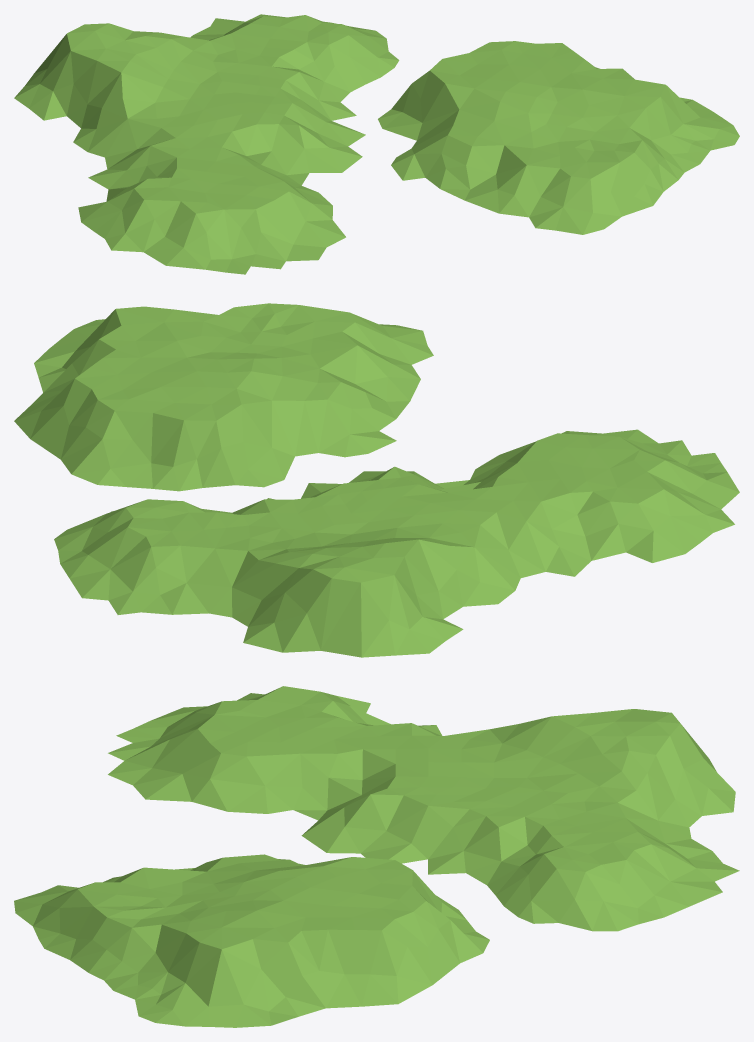
File: MT_Mountain_L_b_12_LOD.fbx
The picture shows the model from 3 angles, top to bottom: view 1: azimuth 30°, elevation 25°; view 2: azimuth 150°, elevation 25°; view 3: azimuth 270°, elevation 25°; orthographic projection. The views are drawn at different scales.
Visible parts, largest first — view 1: MT_Mountain_L_b_12_LOD0; view 2: MT_Mountain_L_b_12_LOD0; view 3: MT_Mountain_L_b_12_LOD0.
Part boxes in pixels (x1,y1,x2,y2): MT_Mountain_L_b_12_LOD0: (14, 14, 739, 274); MT_Mountain_L_b_12_LOD0: (14, 303, 739, 657); MT_Mountain_L_b_12_LOD0: (14, 686, 739, 1027).
Size of what is drawn, in the model's own units: 7543 by 645 by 6913.
